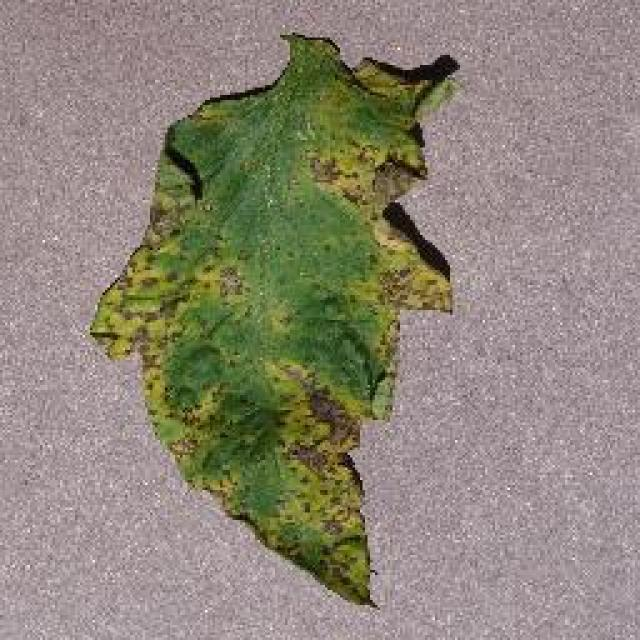Tomato___Septoria_leaf_spot: (90, 32, 458, 602)
